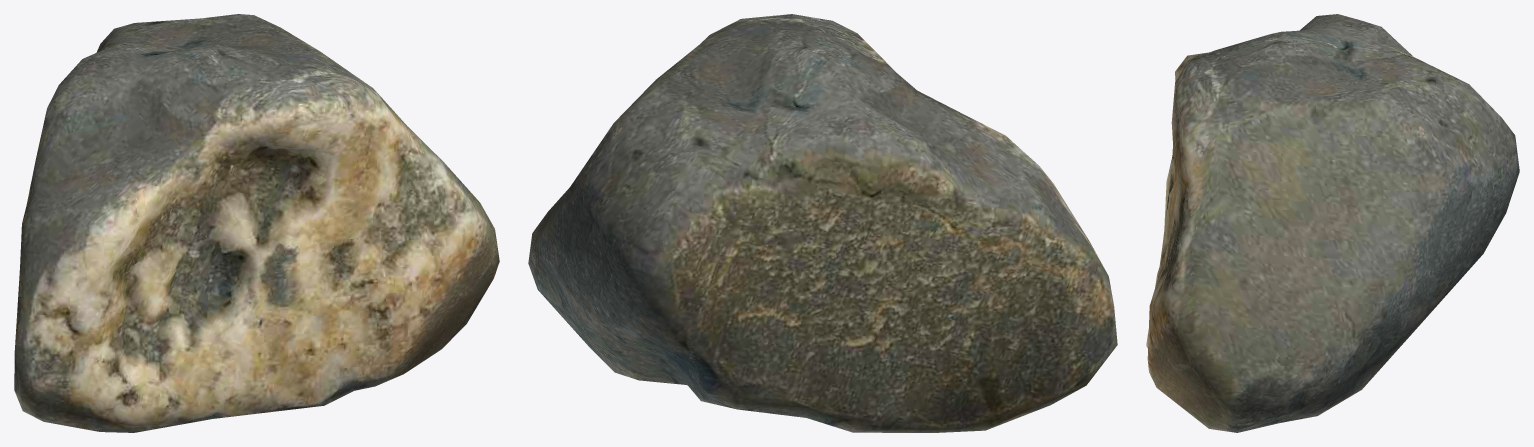
3 renders of one model, left to right at view 1: azimuth 30°, elevation 25°; view 2: azimuth 150°, elevation 25°; view 3: azimuth 270°, elevation 25°, orthographic. The views are drawn at different scales.
Parts seen in each view (by area): view 1: rock07; view 2: rock07; view 3: rock07.
Part boxes in pixels (left/top/right/bottom): rock07: left=14, top=14, right=499, bottom=432; rock07: left=528, top=14, right=1117, bottom=432; rock07: left=1146, top=14, right=1519, bottom=432.
Bounding box in the file's own units: 110 × 67.86 × 74.6.
Materials: 1 (1 with a texture image).
